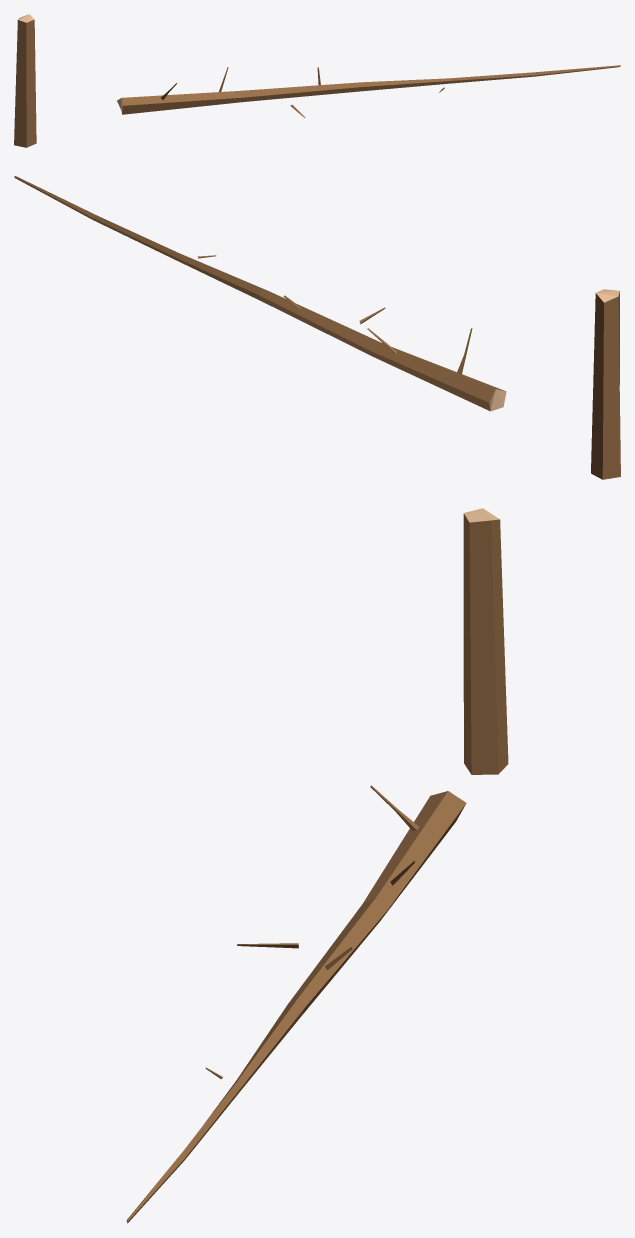
Rendered from Pine_Tree_NoLeaves_crk_l_08.fbx.
3 views of the same model, one above another, from view 1: azimuth 30°, elevation 25°; view 2: azimuth 150°, elevation 25°; view 3: azimuth 270°, elevation 25° (orthographic). The views are drawn at different scales.
Parts seen in each view (by area): view 1: Pine_Tree_NoLeaves_crk_l_08; view 2: Pine_Tree_NoLeaves_crk_l_08; view 3: Pine_Tree_NoLeaves_crk_l_08.
Part boxes in pixels (x1=…): Pine_Tree_NoLeaves_crk_l_08: x1=14, y1=14, x2=620, y2=147; Pine_Tree_NoLeaves_crk_l_08: x1=14, y1=176, x2=620, y2=479; Pine_Tree_NoLeaves_crk_l_08: x1=126, y1=508, x2=508, y2=1223.
Bounding box in the file's own units: 1624 × 379 × 519.
